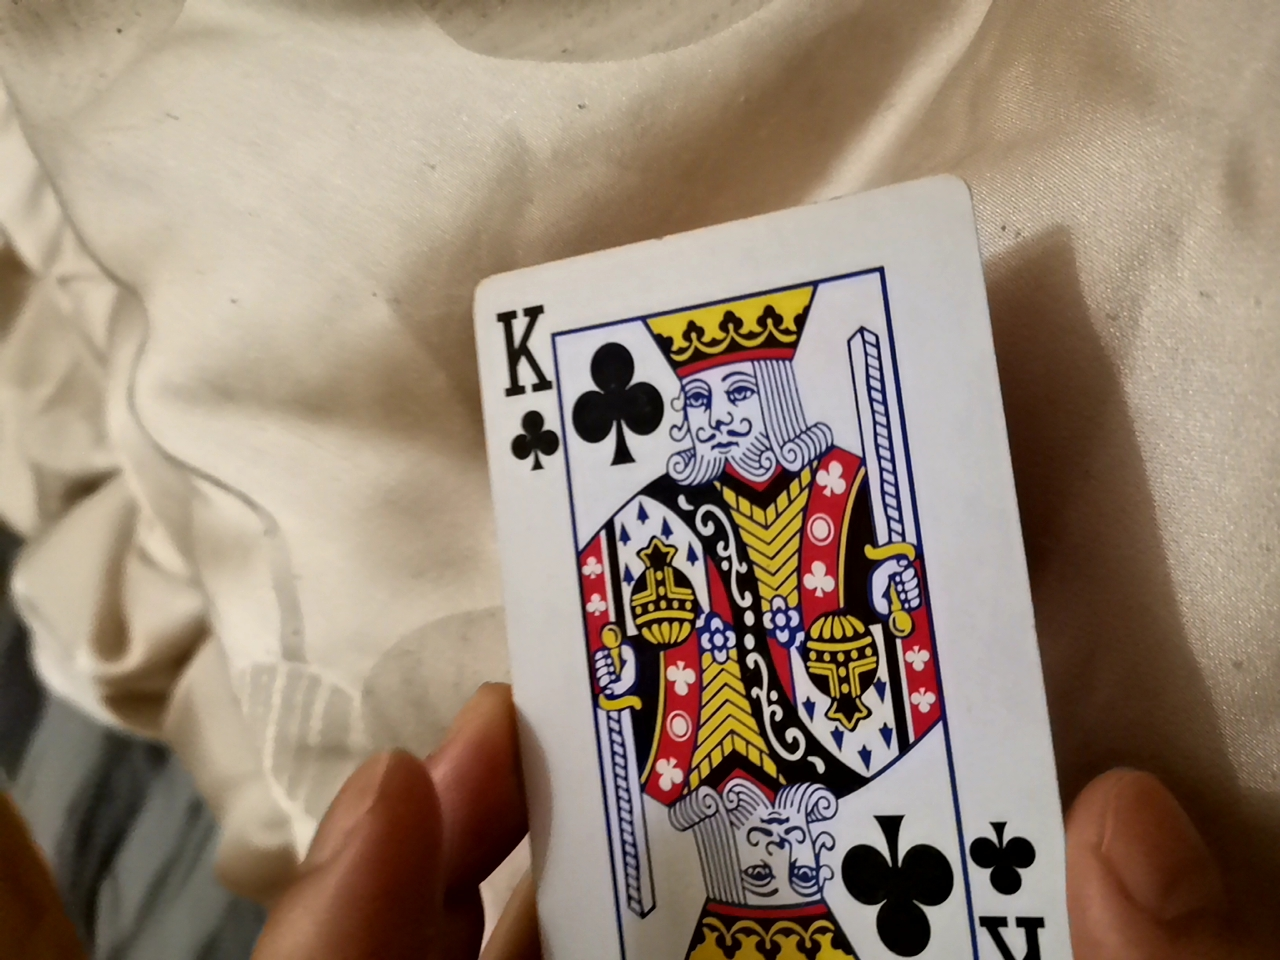mh k: (481, 172, 1092, 937)
